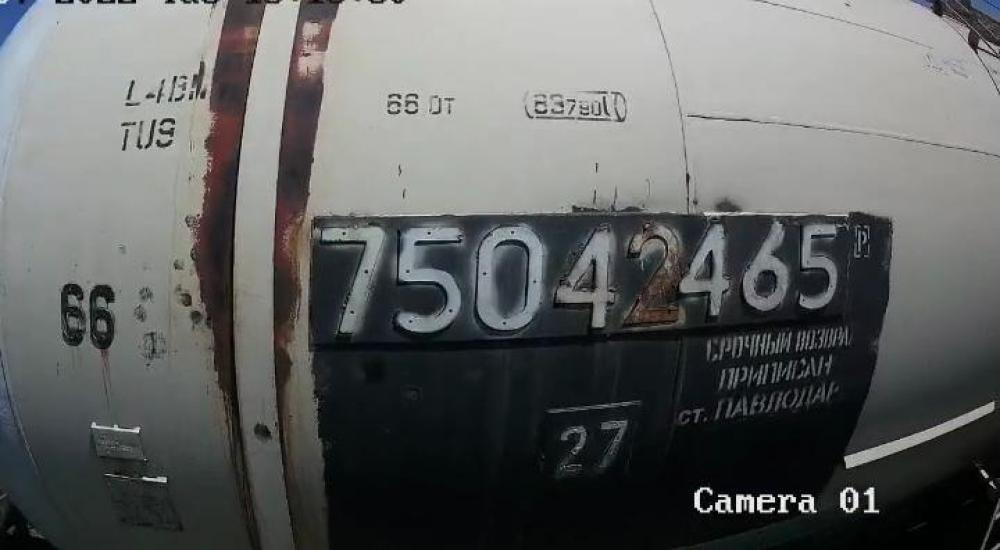Wagon-number: (320, 215, 838, 344)
